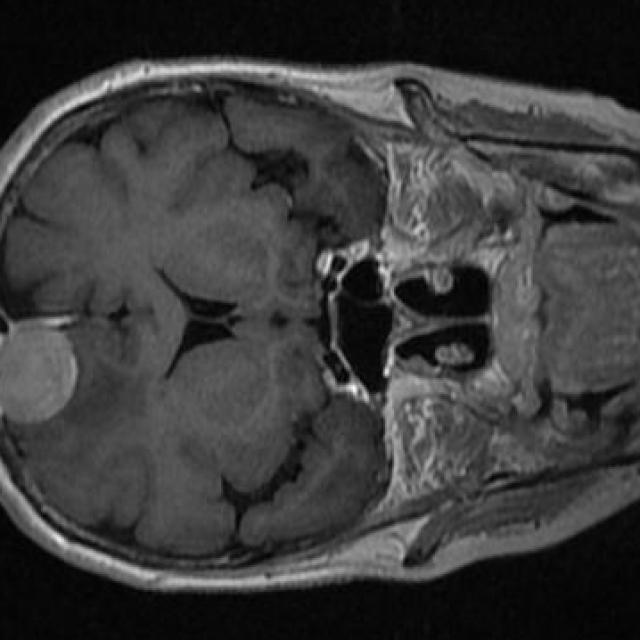meningioma: (0, 323, 78, 424)
